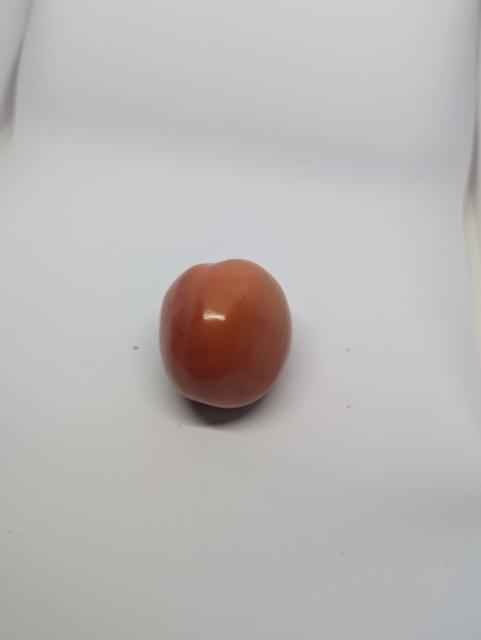red: (144, 247, 315, 426)
